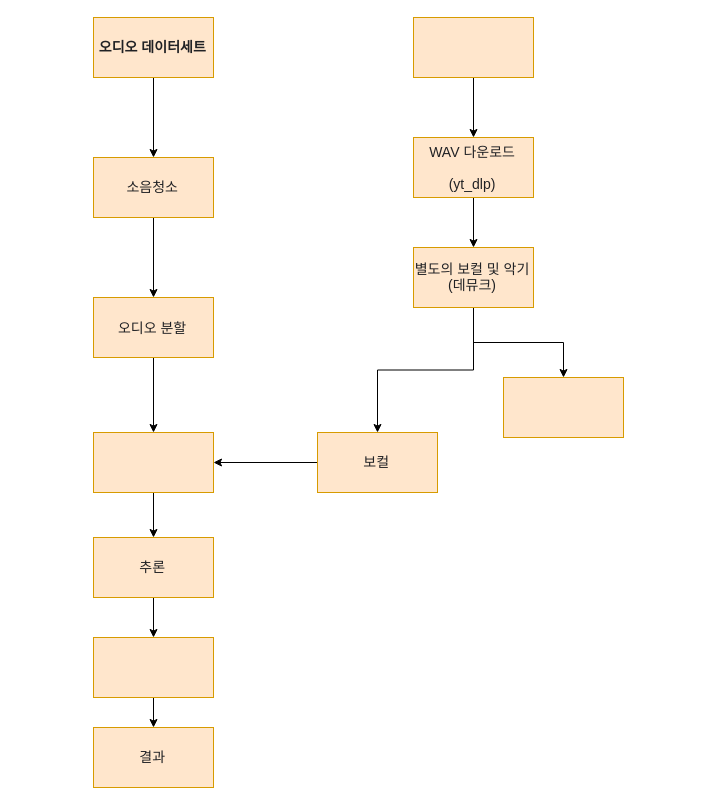
This 716x805 diagram has some shape labels left out. Here are the shapes that lost their labels. From the top down, the centre of each, then its label:
(473,47): 유튜브 뮤직비디오
(563,407): 악기
(153,462): 훈련
(153,667): 악기 다시 추가
